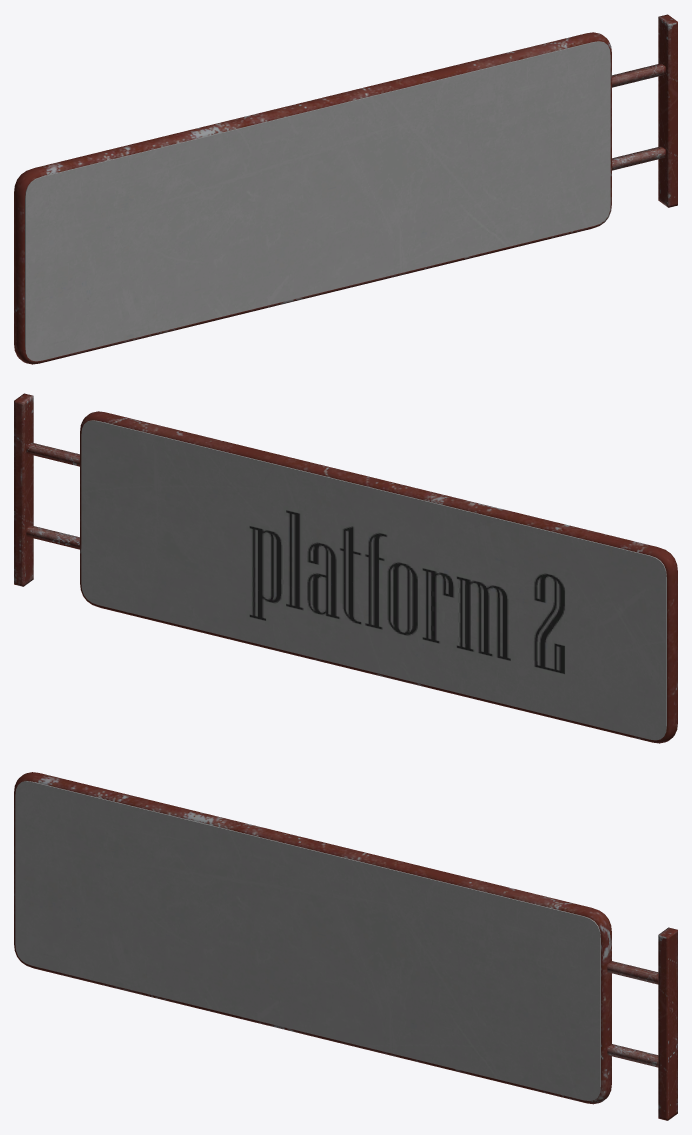
The model's file is SM_Sign2.FBX.
The picture shows the model from 3 angles, top to bottom: view 1: azimuth 30°, elevation 25°; view 2: azimuth 150°, elevation 25°; view 3: azimuth 330°, elevation 25°; orthographic projection.
Visible parts, largest first — view 1: SM_Sign2; view 2: SM_Sign2; view 3: SM_Sign2.
Boxes of the visible parts, <box> form: SM_Sign2: <box>14,14,677,364</box>; SM_Sign2: <box>14,393,677,743</box>; SM_Sign2: <box>14,772,677,1120</box>.
Size of the model in its own units: 112 by 3 by 31.62.
